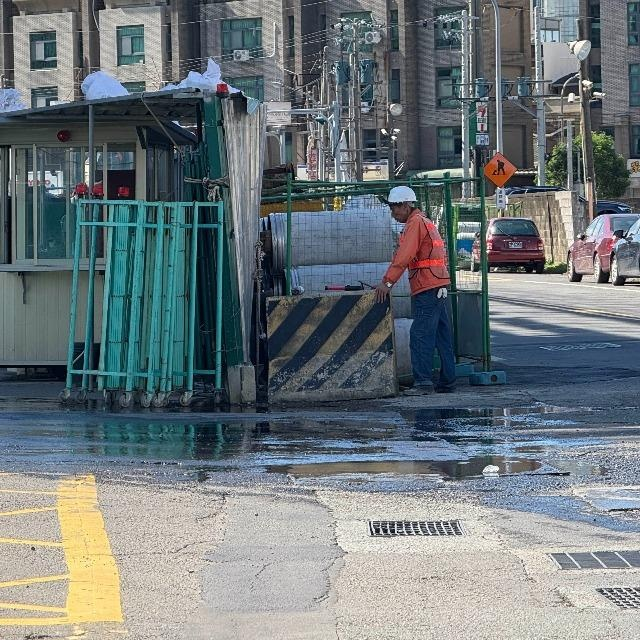Con_Casco: (387, 186, 420, 222)
Con_Chaleco: (399, 217, 451, 292)
